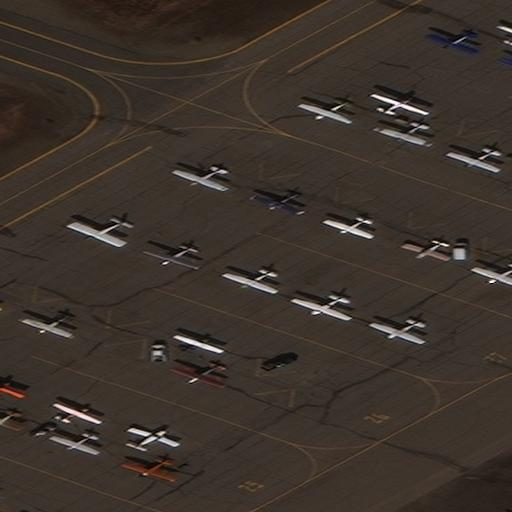Small Civil Transport: (66, 220, 123, 247), (289, 295, 347, 321), (371, 123, 428, 147), (221, 270, 275, 295), (141, 245, 197, 269), (296, 99, 348, 124), (169, 364, 222, 388), (367, 320, 420, 344), (120, 458, 172, 482), (444, 149, 496, 173), (374, 92, 429, 114), (171, 168, 223, 191), (17, 315, 68, 338), (425, 31, 473, 55), (130, 427, 180, 449), (48, 433, 97, 455), (249, 193, 298, 215), (321, 218, 370, 239), (400, 241, 446, 262), (54, 402, 102, 422), (470, 265, 512, 287), (175, 334, 224, 351), (0, 381, 25, 397), (0, 411, 18, 431)
